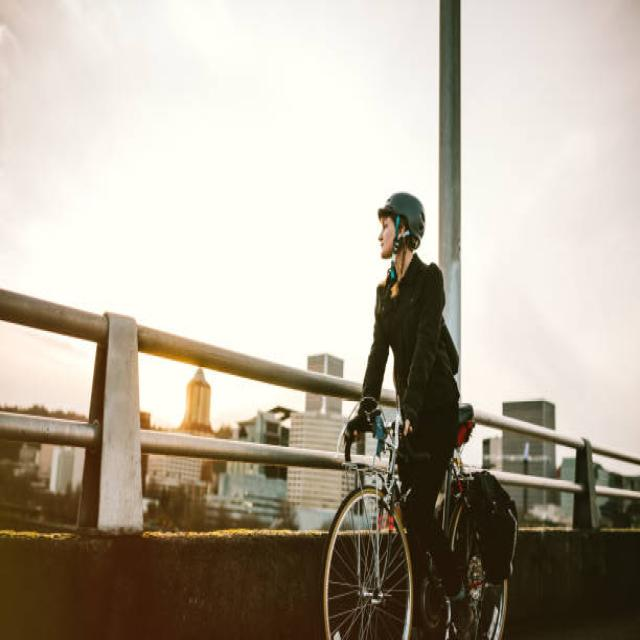bicycle: (324, 193, 518, 639)
